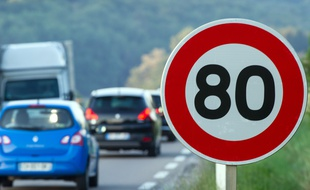Speed_limit_80km: (160, 18, 307, 163)
